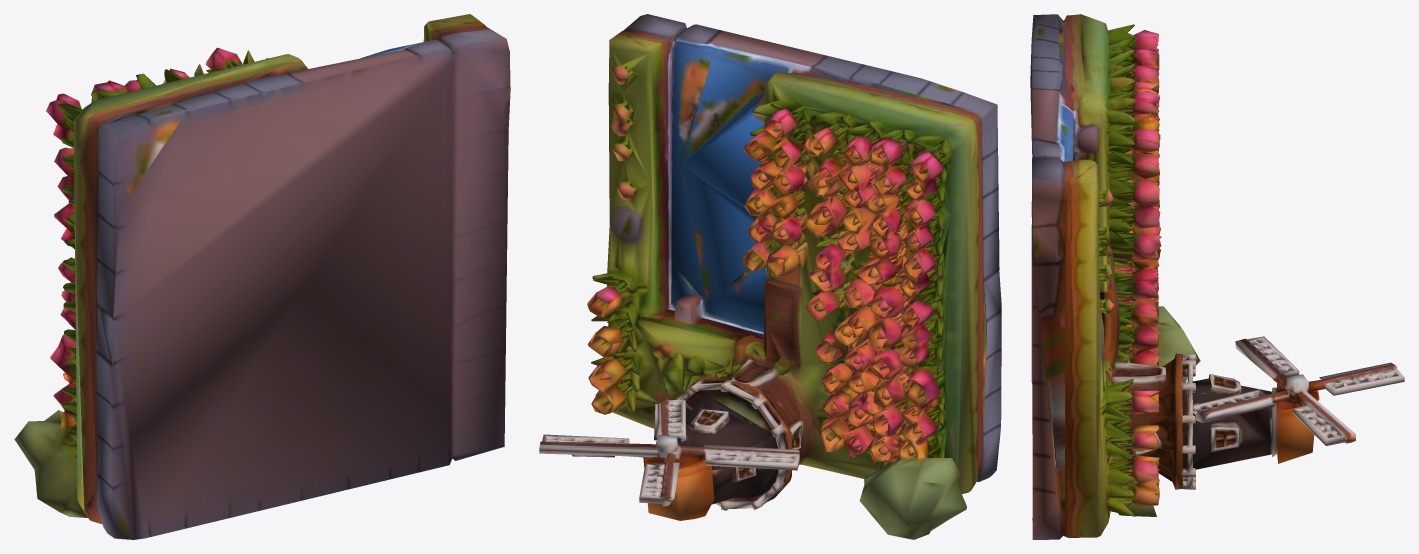
The picture shows the model from 3 angles, left to right: view 1: azimuth 30°, elevation 25°; view 2: azimuth 150°, elevation 25°; view 3: azimuth 270°, elevation 25°; orthographic projection. The views are drawn at different scales.
Visible parts, largest first — view 1: material; view 2: material; view 3: material.
Boxes of the visible parts, box(x1,y1,x2,y2) form: material: box(14, 14, 510, 539); material: box(539, 14, 1001, 539); material: box(1030, 14, 1404, 539).
Bounding box in the file's own units: 0.9956 × 1 × 0.8737.
Materials: 1 (1 with a texture image).
